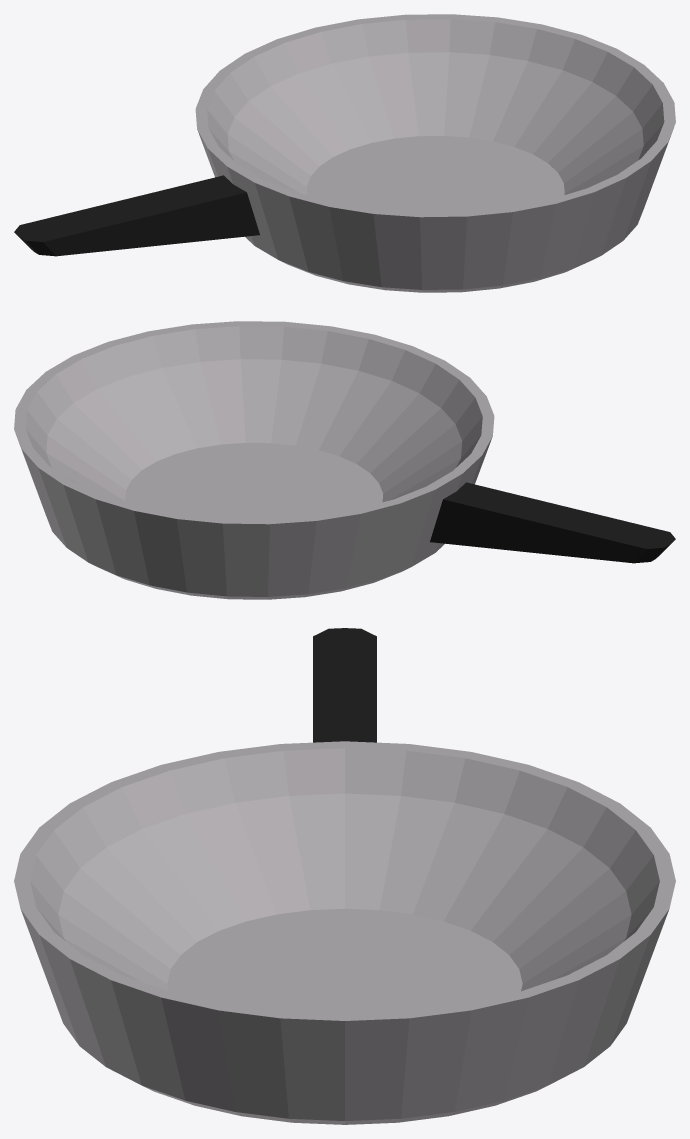
File: Pfanne.fbx
The picture shows the model from 3 angles, top to bottom: view 1: azimuth 30°, elevation 25°; view 2: azimuth 150°, elevation 25°; view 3: azimuth 270°, elevation 25°; orthographic projection. The views are drawn at different scales.
Visible parts, largest first — view 1: Cylinder; view 2: Cylinder; view 3: Cylinder.
Boxes of the visible parts, x1,y1,x2,y2 form: Cylinder: (14, 14, 675, 292); Cylinder: (14, 321, 675, 599); Cylinder: (14, 628, 675, 1124).
Bounding box in the file's own units: 83.81 × 12.05 × 55.89.
